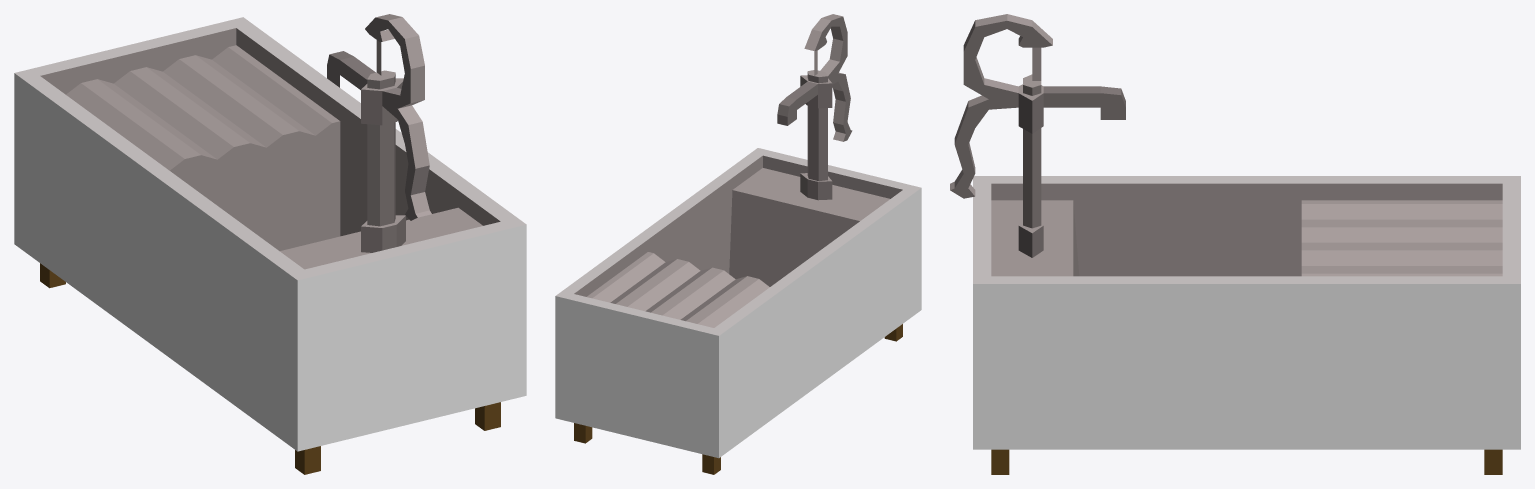
3 renders of one model, left to right at view 1: azimuth 30°, elevation 25°; view 2: azimuth 150°, elevation 25°; view 3: azimuth 270°, elevation 25°, orthographic. The views are drawn at different scales.
Size of the model in its own units: 112 by 199 by 250.
Materials: 1 (1 with a texture image).
